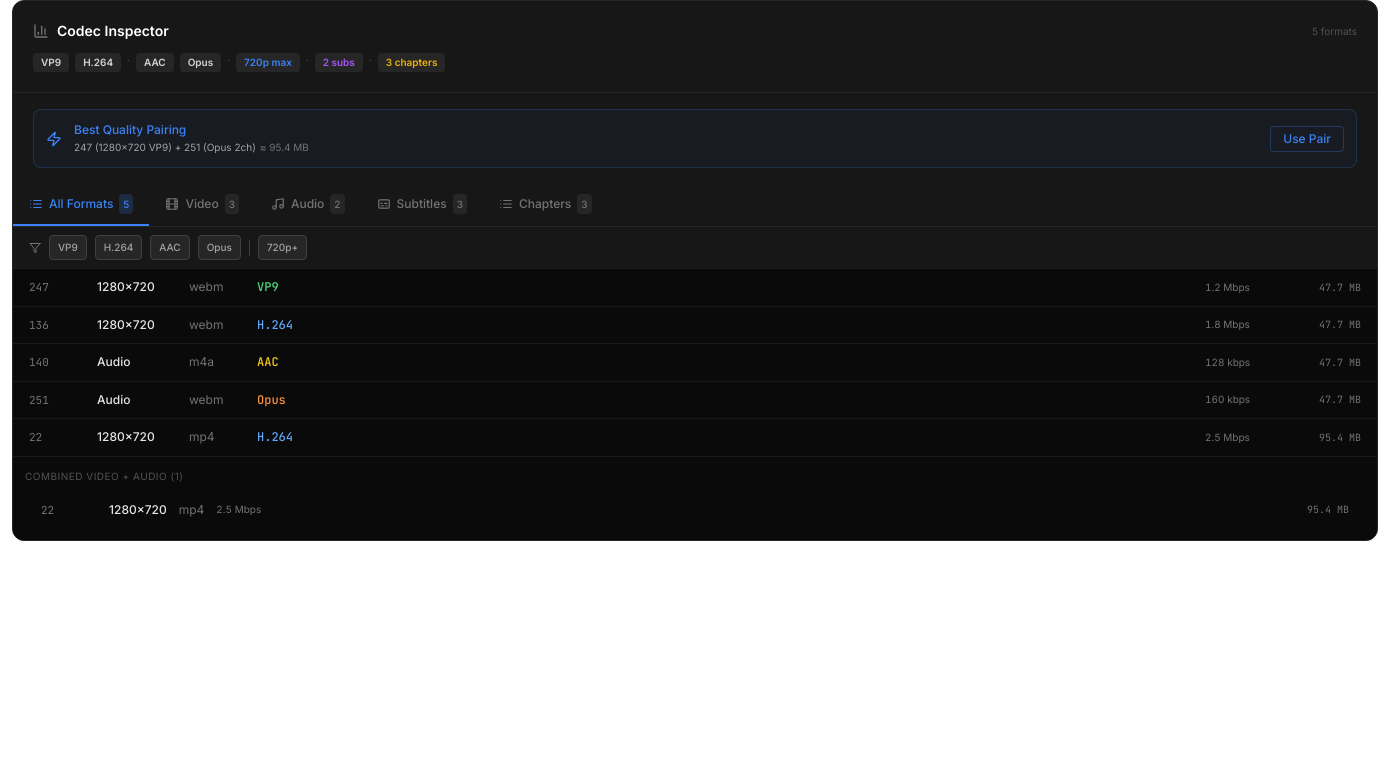
Test case: FormatInspector › switches to subtitles tab
Click the button "Subtitles 3".
click(422, 205)  # box [360,184,483,226]
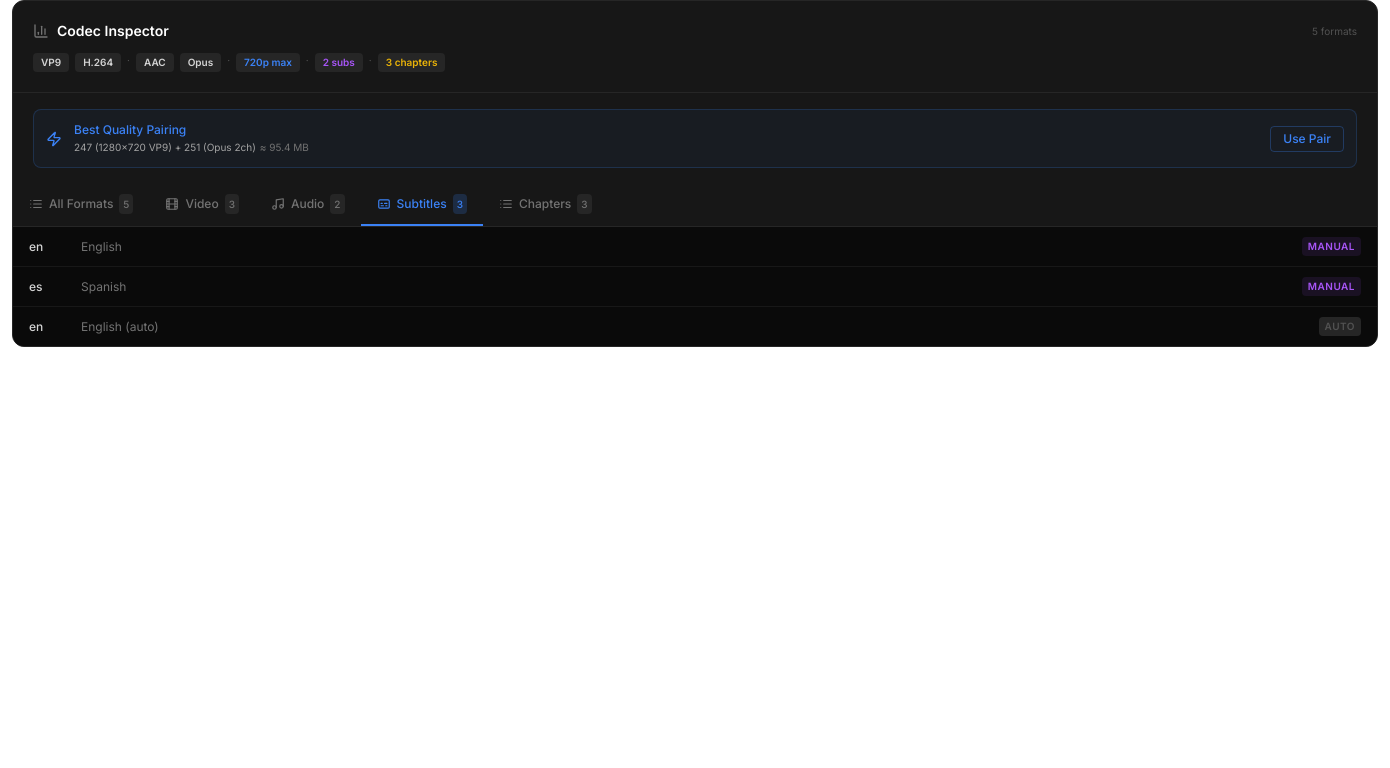
Result: the text "English" is shown at [81,238,122,254]
Result: the text "Spanish" is shown at [81,278,126,294]
